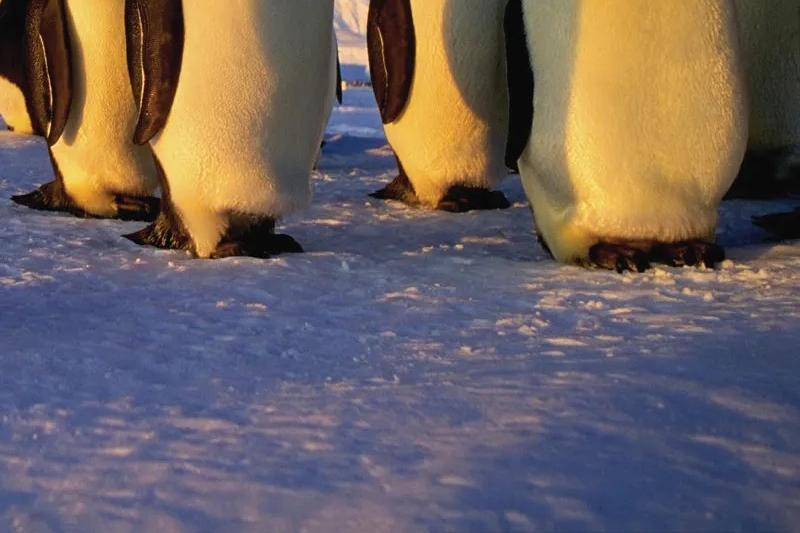Emperor Penguin: (90, 0, 361, 324), (485, 0, 739, 286), (365, 0, 528, 265), (0, 0, 168, 241), (688, 0, 800, 278)
